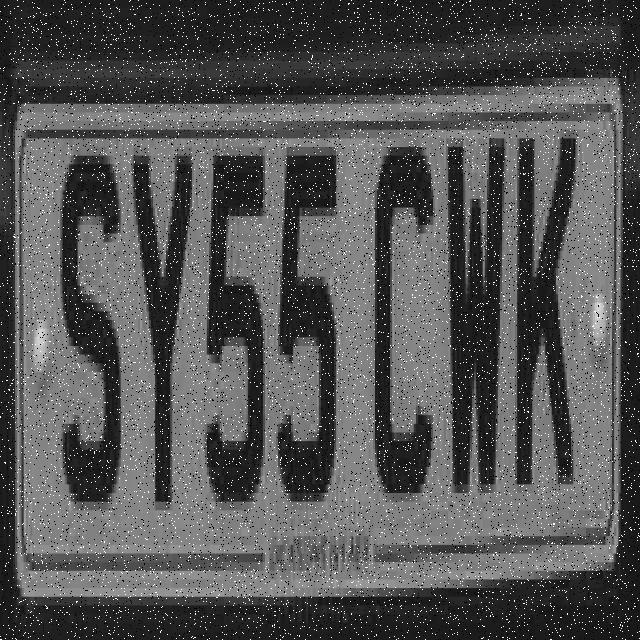LicensePlate: (4, 45, 628, 625)
